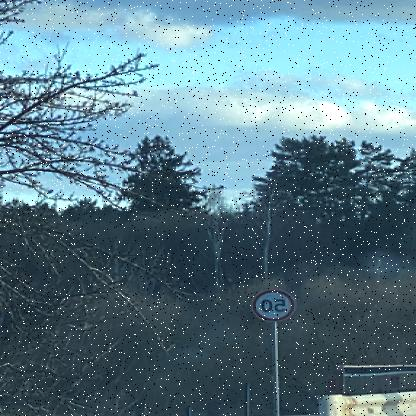speedlimit: (254, 288, 297, 320)
